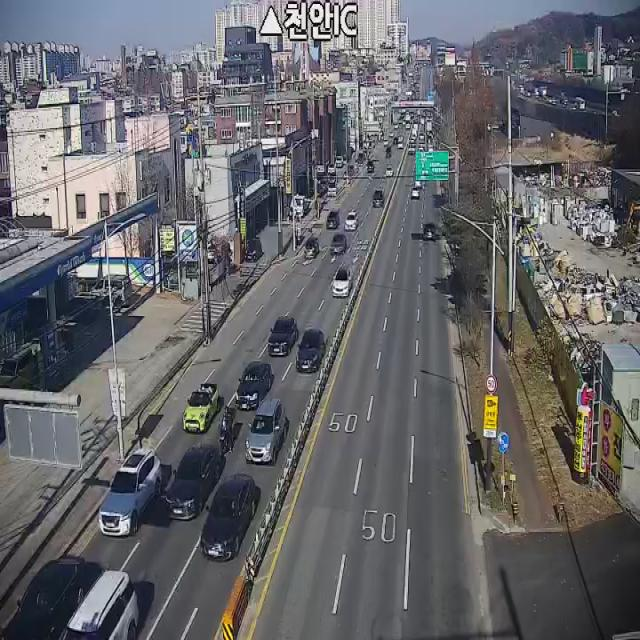Car: (0, 556, 85, 640), (98, 449, 162, 537), (62, 572, 138, 640), (200, 475, 258, 562), (164, 443, 222, 521), (245, 398, 288, 465), (182, 383, 218, 434), (235, 362, 272, 409), (296, 329, 326, 374), (90, 274, 132, 306), (268, 315, 299, 357), (330, 266, 352, 298), (329, 233, 347, 255), (245, 237, 262, 260), (344, 208, 359, 232), (304, 237, 319, 259), (424, 222, 437, 244), (326, 209, 340, 229), (372, 189, 386, 208), (327, 178, 339, 196), (314, 160, 327, 173), (335, 154, 344, 167), (328, 162, 336, 174), (411, 189, 420, 199)
Motorcycle: (224, 402, 232, 458)
